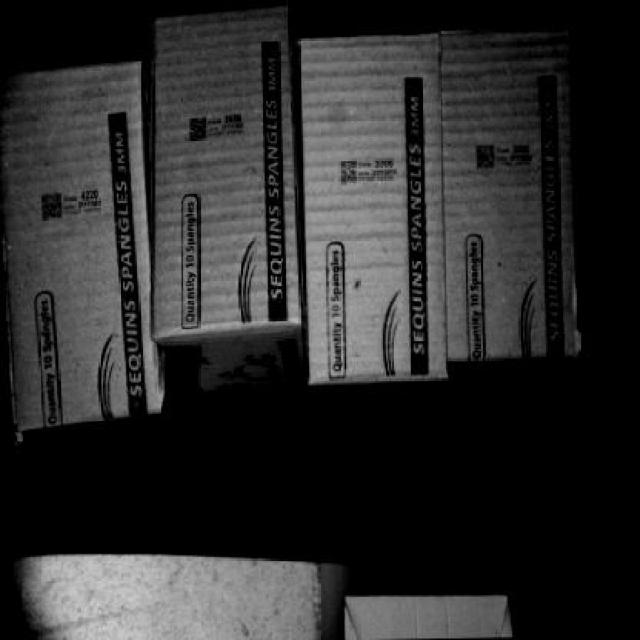cardboxes: (1, 74, 164, 428), (303, 35, 446, 390), (439, 30, 576, 355), (158, 13, 296, 330)
